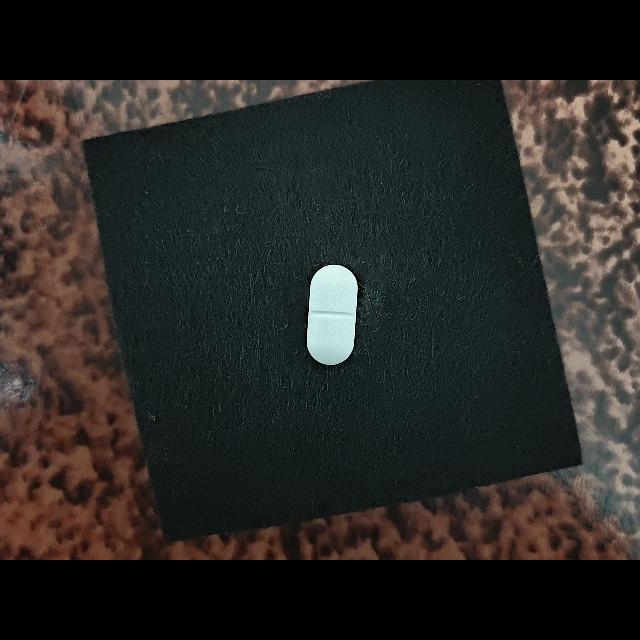Intact Pill: (306, 264, 358, 366)
